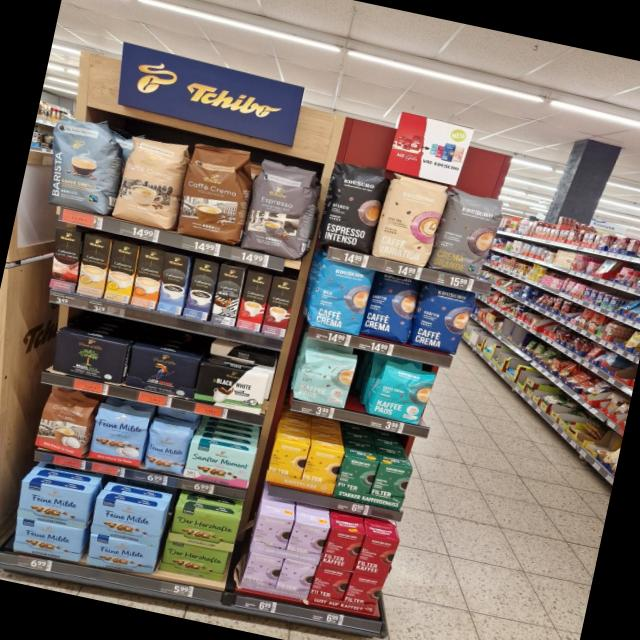BM Gemahlen: (46, 328, 130, 386)
BW Gemahlen: (192, 360, 270, 416)
Barista CC: (36, 111, 129, 218)
CC Mild: (113, 134, 190, 230)
CC Vollmundig: (32, 386, 96, 458)
CC Vollmundig 36 Pads: (174, 140, 258, 247)
Espresso M Art: (238, 158, 324, 262)
FM 36 Pads: (86, 400, 152, 470)
FM Bohne: (140, 421, 192, 478)
FM Gemahlen: (13, 478, 93, 531), (8, 515, 86, 565), (89, 496, 167, 546), (82, 532, 160, 578)
Herzhatfe Mundig: (167, 504, 240, 554), (159, 536, 230, 584)
LG Gemahlen: (123, 344, 200, 400)
SM Gemahlen: (182, 438, 256, 490)
Simo CC Colombia: (50, 227, 82, 292)
Simo CCMild bigpack: (104, 240, 139, 303)
Simo CCVollmundig bigpack: (130, 246, 165, 310)
Simo Decaff: (76, 233, 111, 297)
Simo Es Brazil: (236, 271, 272, 332)
Simo Es Caramel: (260, 276, 296, 338)
Simo Es Elegant: (208, 264, 245, 326)
Simo Es Kraft: (182, 258, 218, 322)
Simo Es Vanilla: (157, 251, 190, 314)
